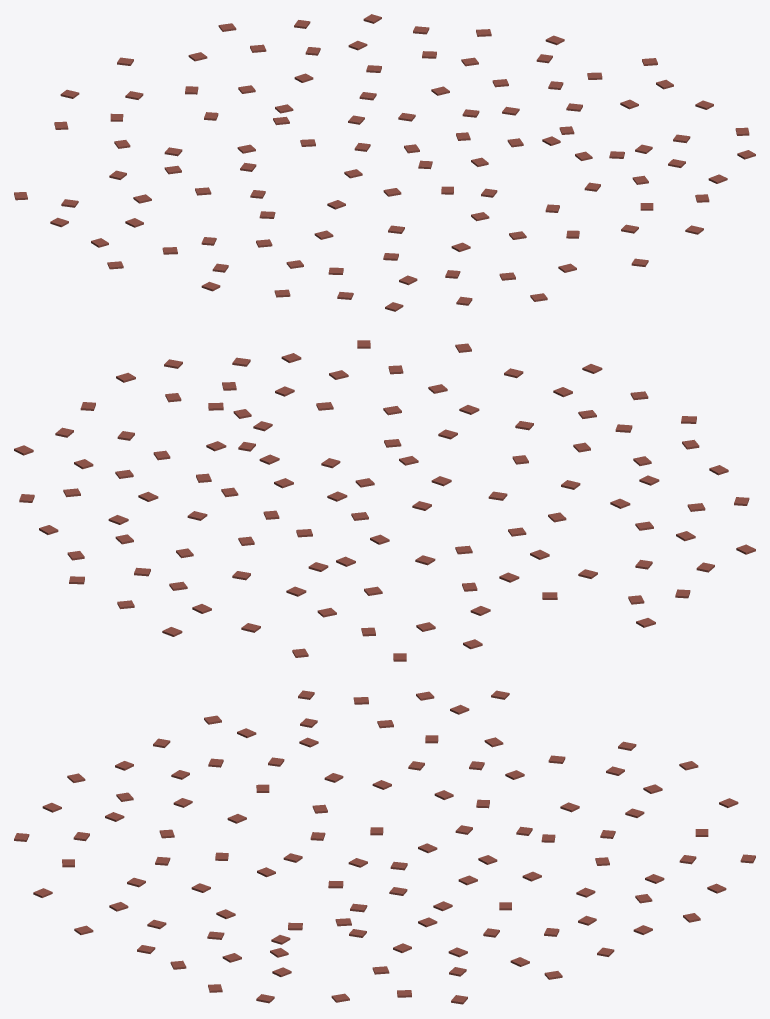
Rendered from tomato.glb.
The picture shows the model from 3 angles, top to bottom: view 1: azimuth 30°, elevation 25°; view 2: azimuth 150°, elevation 25°; view 3: azimuth 270°, elevation 25°; orthographic projection. The views are drawn at different scales.
Parts seen in each view (by area): view 1: tomato20; view 2: tomato20; view 3: tomato20.
Boxes of the visible parts, left/top/right/bottom form: tomato20: left=14, top=14, right=755, bottom=311; tomato20: left=14, top=340, right=755, bottom=661; tomato20: left=14, top=690, right=755, bottom=1004.
Size of the model in its own units: 0.3429 by 0.001 by 0.3444.
